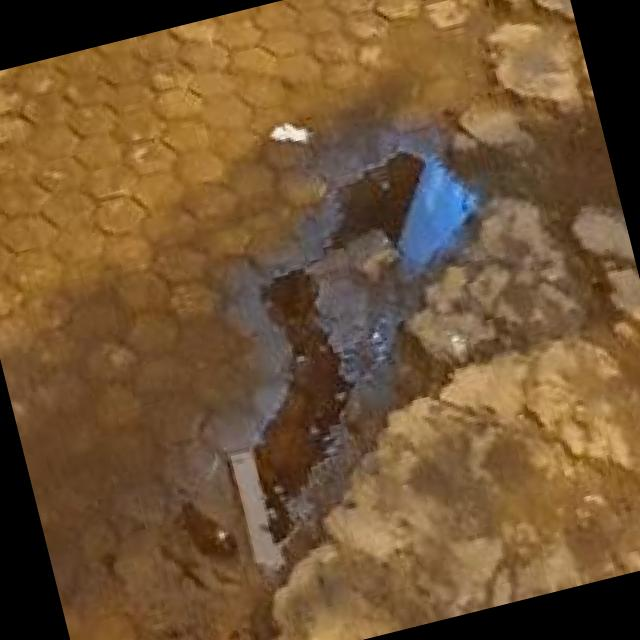stagnation: (188, 147, 566, 484)
